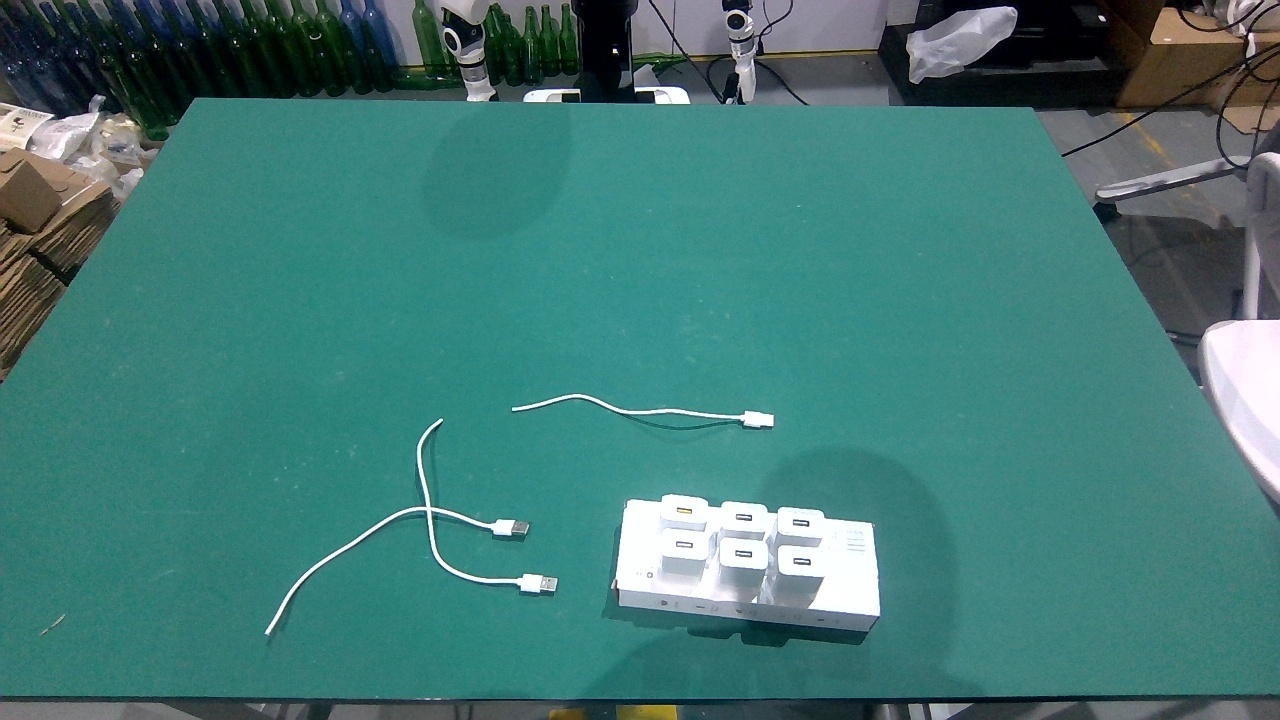usb_a_plug: (504, 573, 559, 594), (480, 517, 529, 537), (728, 409, 776, 429)
